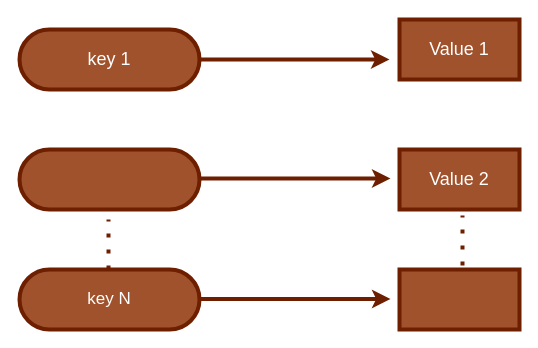
This 538x348 diagram has some shape labels left out. The centre of each missing label's shape, as x and y in pixels:
"key 2" goes at [109,179].
"Value N" goes at [459,299].
